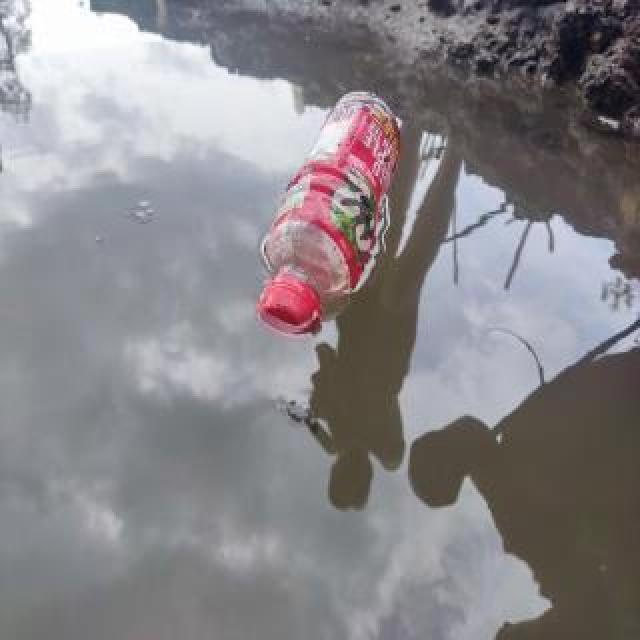bottle: (257, 86, 405, 350)
